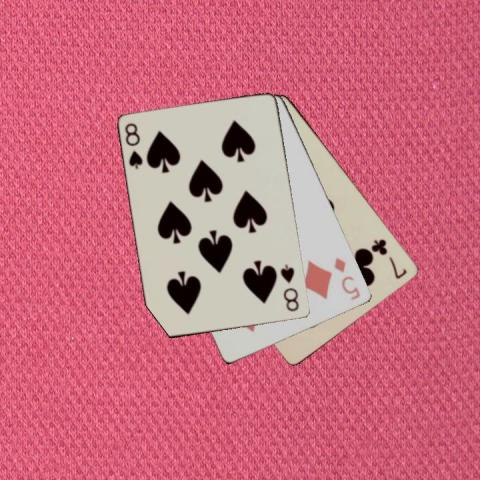5d: (331, 254, 362, 302)
7c: (370, 235, 409, 281)
8s: (278, 262, 301, 314), (122, 120, 145, 171)
